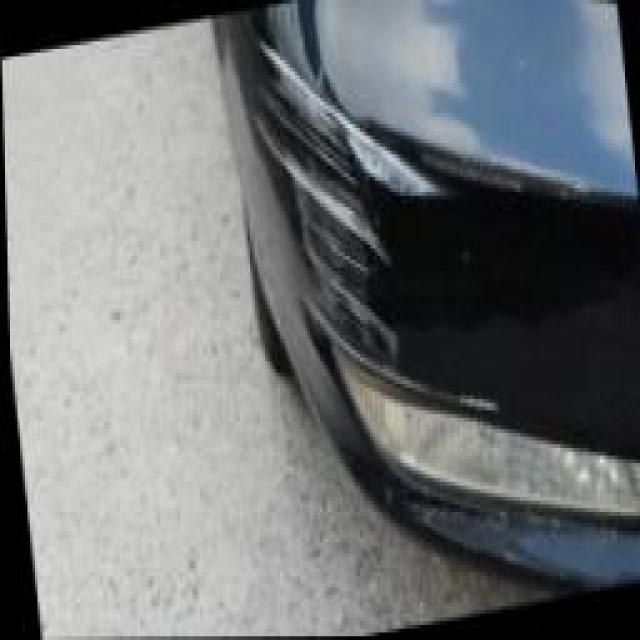Bumper: (245, 0, 506, 487)
